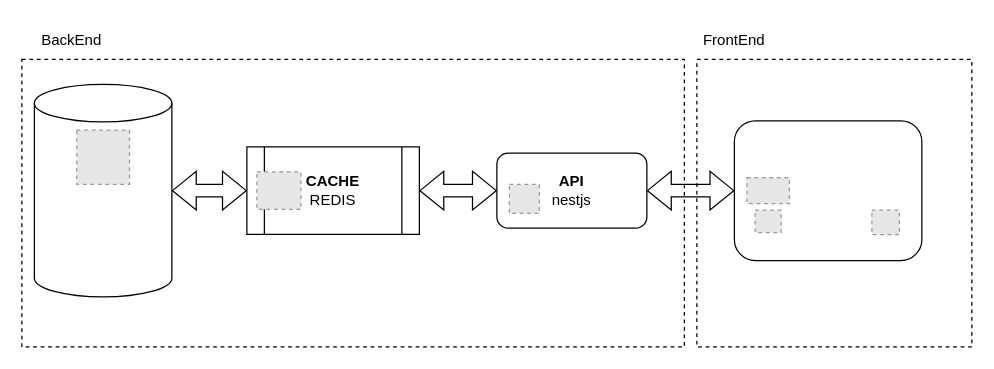
This 994x369 diagram has some shape labels left out. Grey dashed boxes stand in for pictures. The shapes that lost their labels are listed below. From the top down, each one's box as (x1, y1, x2, y2) in pixels, then its label:
(33, 83, 172, 297): BDD Postgres
(733, 120, 922, 260): Application WEB nodejs vuejs vuetify
